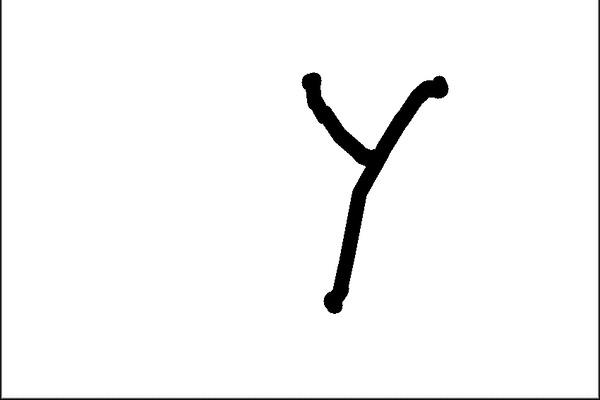Y: (290, 58, 457, 321)
